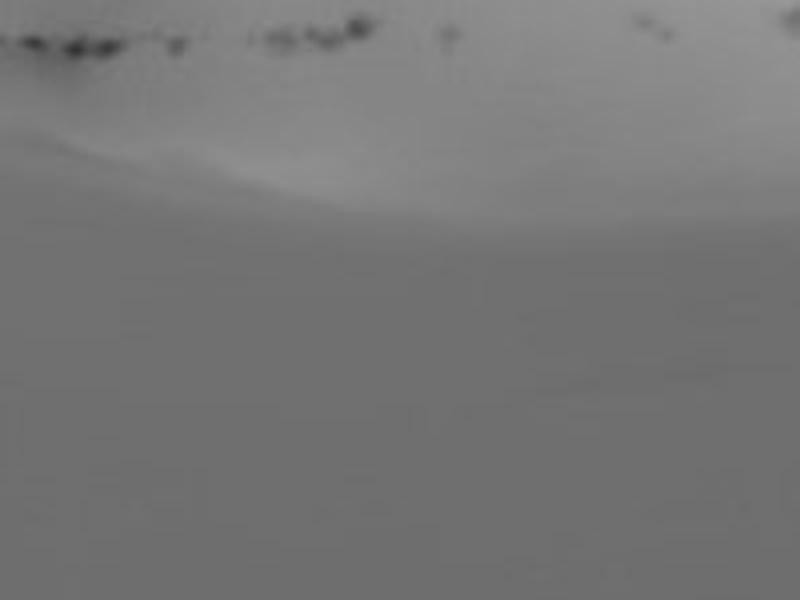defect: (265, 24, 301, 55), (304, 24, 342, 51), (349, 11, 378, 44), (434, 21, 461, 47), (17, 34, 49, 55), (784, 2, 800, 42), (89, 40, 120, 60), (64, 39, 90, 62), (657, 27, 681, 49), (167, 36, 187, 60), (634, 13, 658, 27)
